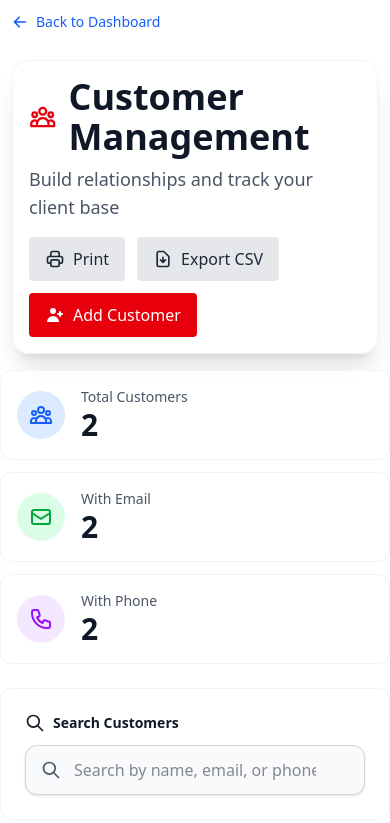
CustomersPage Integration › Error Handling › should show error message on create failure
Note: Click add customer button in header
Click the button "Add Customer": (113, 315) [29, 293, 197, 337]
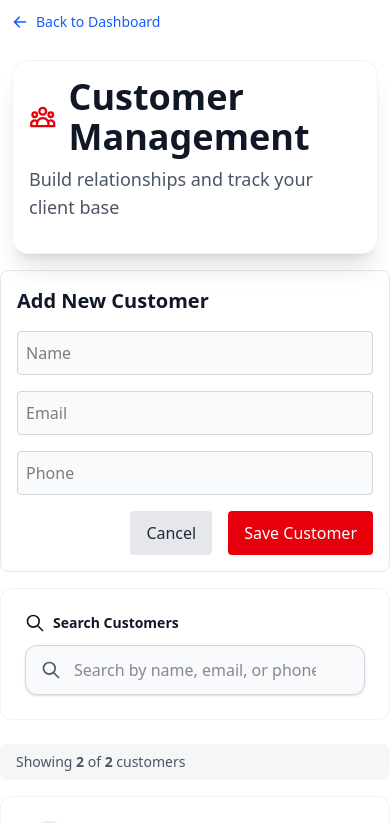
Check: the field with placeholder "Name" is shown
Note: Fill the form (use exact placeholders to avoid confusion with search)
In the field with placeholder "Name": (195, 353) [17, 331, 373, 375], type "Test Customer"
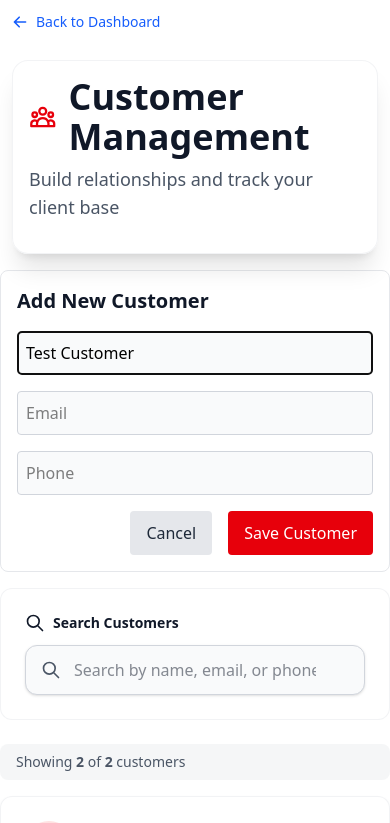
In the field with placeholder "Email": (195, 413) [17, 391, 373, 435], type "test@example.com"
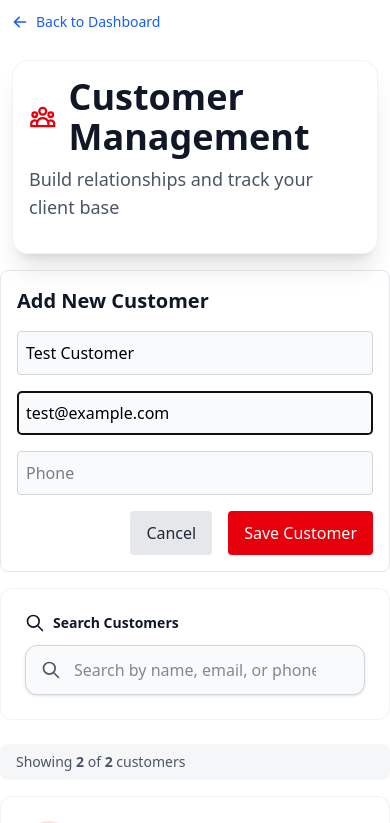
In the field with placeholder "Phone": (195, 473) [17, 451, 373, 495], type "1234567890"
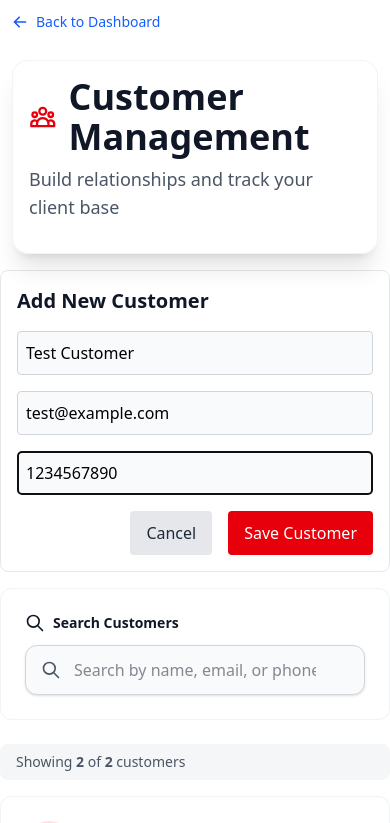
Note: Submit the form
Click the button "Save Customer": (301, 533) [228, 511, 373, 555]
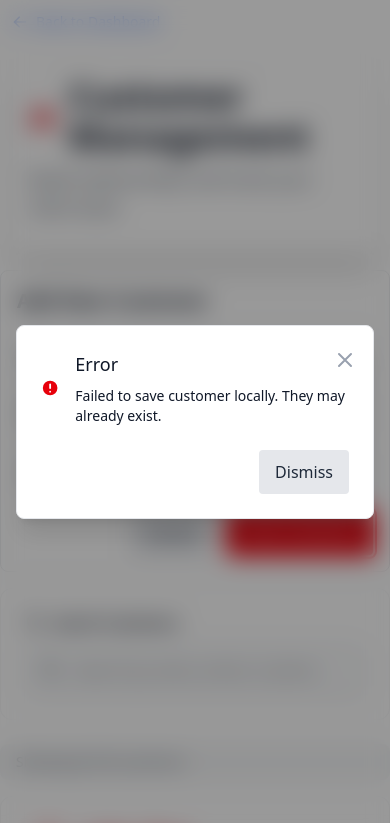
Check: the text "Failed to save customer locally. They may already exist." is shown, box [75, 386, 349, 426]
